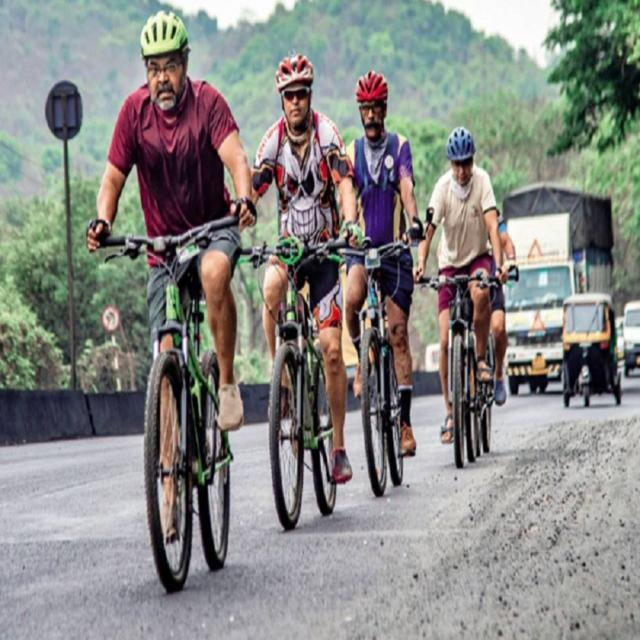autorickshaw: (564, 293, 621, 407)
bicycle: (86, 13, 256, 591), (244, 53, 361, 529), (415, 127, 516, 468), (346, 73, 422, 496)
truck: (504, 182, 612, 393)
